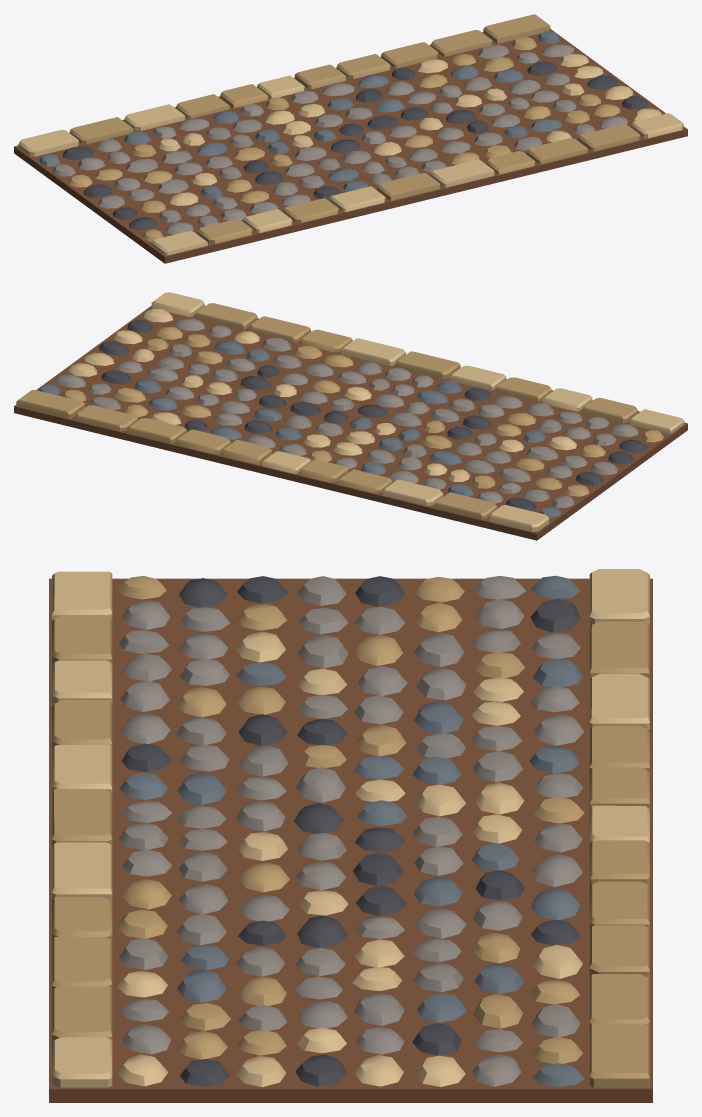
Rendered from deco_paving_cobbles.fbx.
The picture shows the model from 3 angles, top to bottom: view 1: azimuth 30°, elevation 25°; view 2: azimuth 150°, elevation 25°; view 3: azimuth 270°, elevation 25°; orthographic projection. The views are drawn at different scales.
Parts seen in each view (by area): view 1: Paving_Cobbles_Cobbles, Paving_Cobbles_Bed, Paving_Cobbles_Edging; view 2: Paving_Cobbles_Cobbles, Paving_Cobbles_Bed, Paving_Cobbles_Edging; view 3: Paving_Cobbles_Cobbles, Paving_Cobbles_Bed, Paving_Cobbles_Edging.
Part boxes in pixels (<box>): Paving_Cobbles_Cobbles: <box>39,31,661,241</box>; Paving_Cobbles_Bed: <box>14,29,687,263</box>; Paving_Cobbles_Edging: <box>18,14,683,255</box>; Paving_Cobbles_Cobbles: <box>39,308,663,517</box>; Paving_Cobbles_Bed: <box>14,305,687,540</box>; Paving_Cobbles_Edging: <box>16,292,684,531</box>; Paving_Cobbles_Cobbles: <box>117,575,584,1087</box>; Paving_Cobbles_Bed: <box>49,578,652,1102</box>; Paving_Cobbles_Edging: <box>52,569,649,1087</box>.
Size of the model in its own units: 400 by 11.07 by 200.
